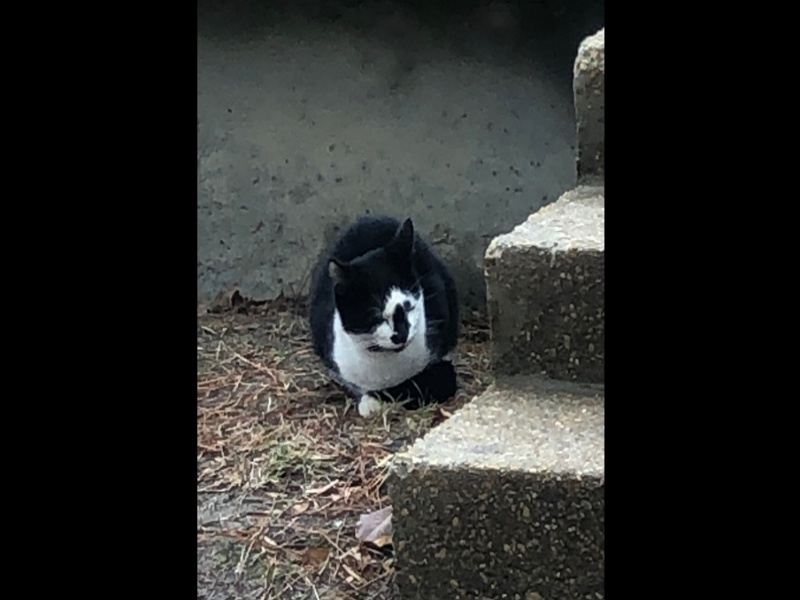cat: (309, 217, 461, 416)
